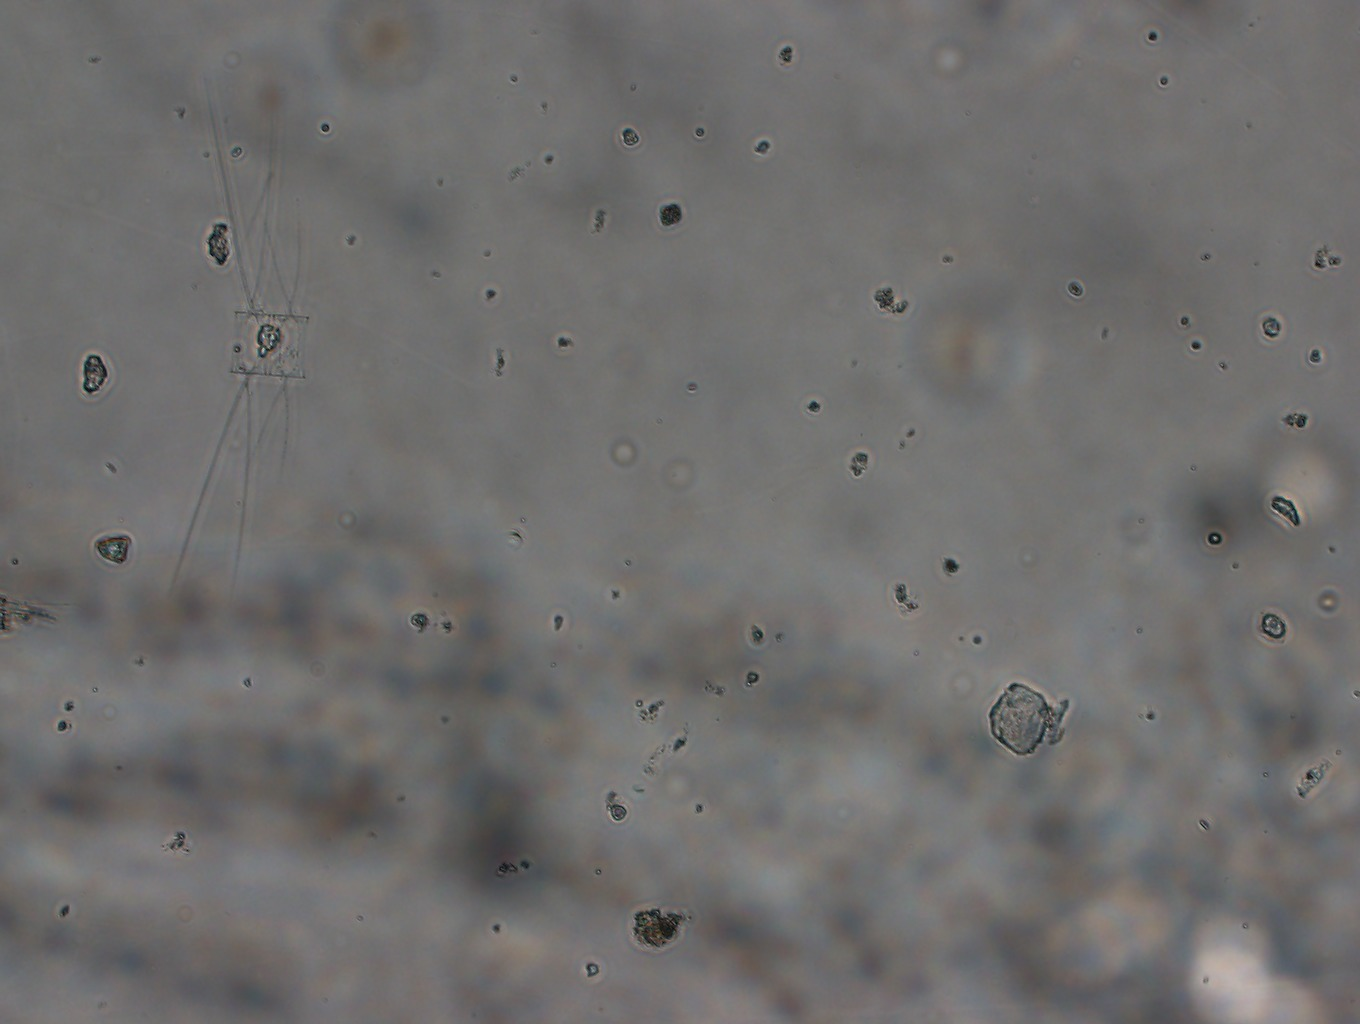chaetoceros: (161, 66, 327, 598)
